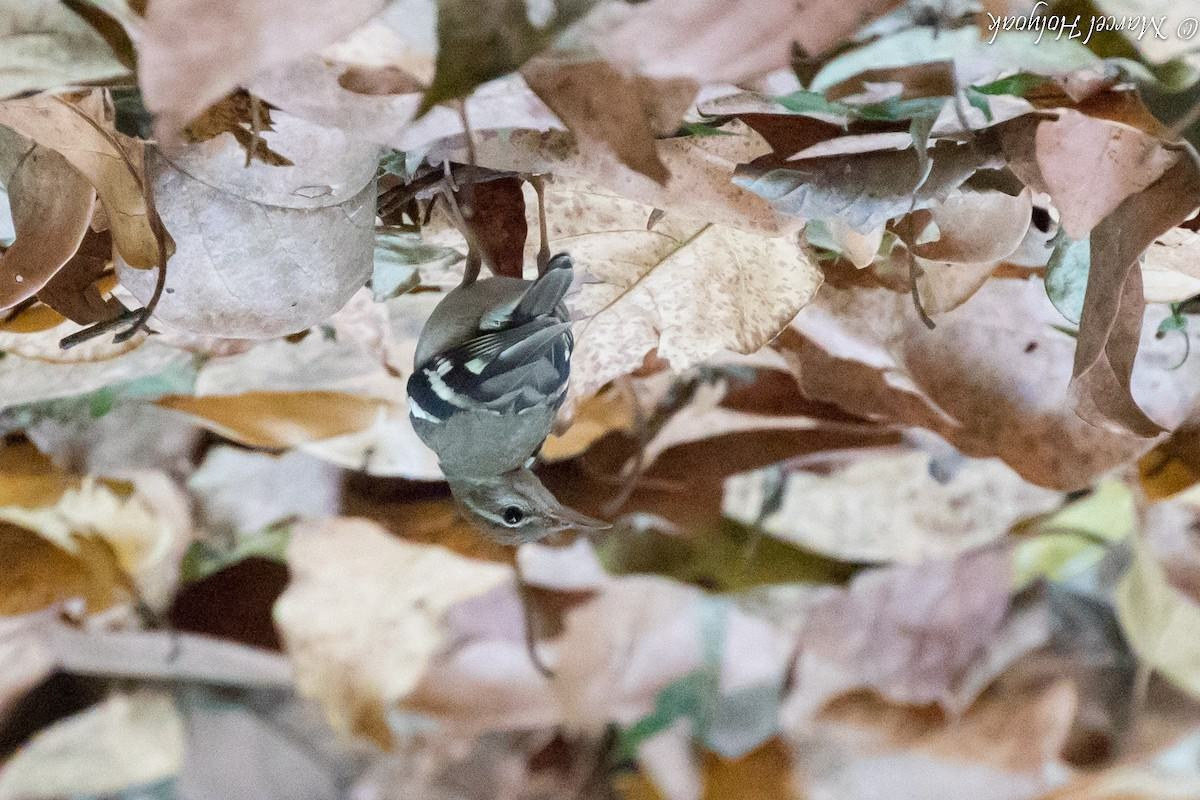wagtail: (430, 267, 621, 550)
